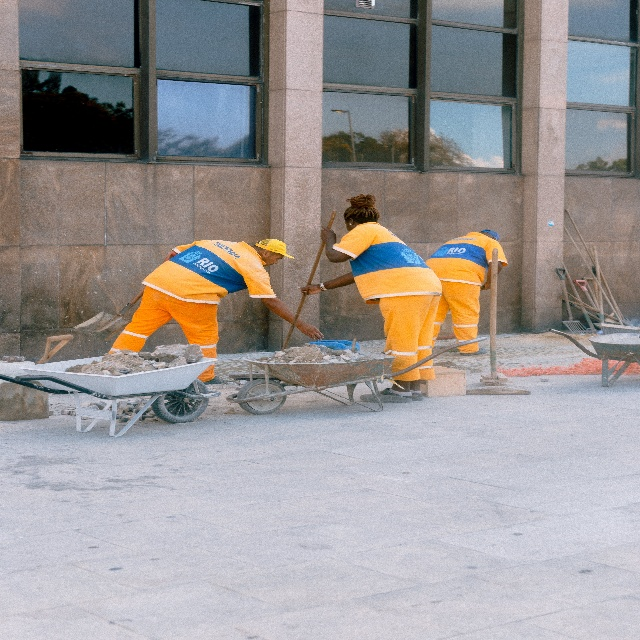Sin_guantes: (299, 320, 324, 342), (320, 225, 336, 245), (298, 283, 322, 295)
